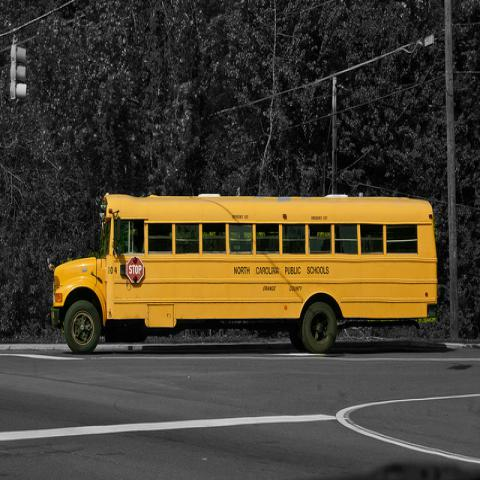bus: (53, 192, 440, 356)
